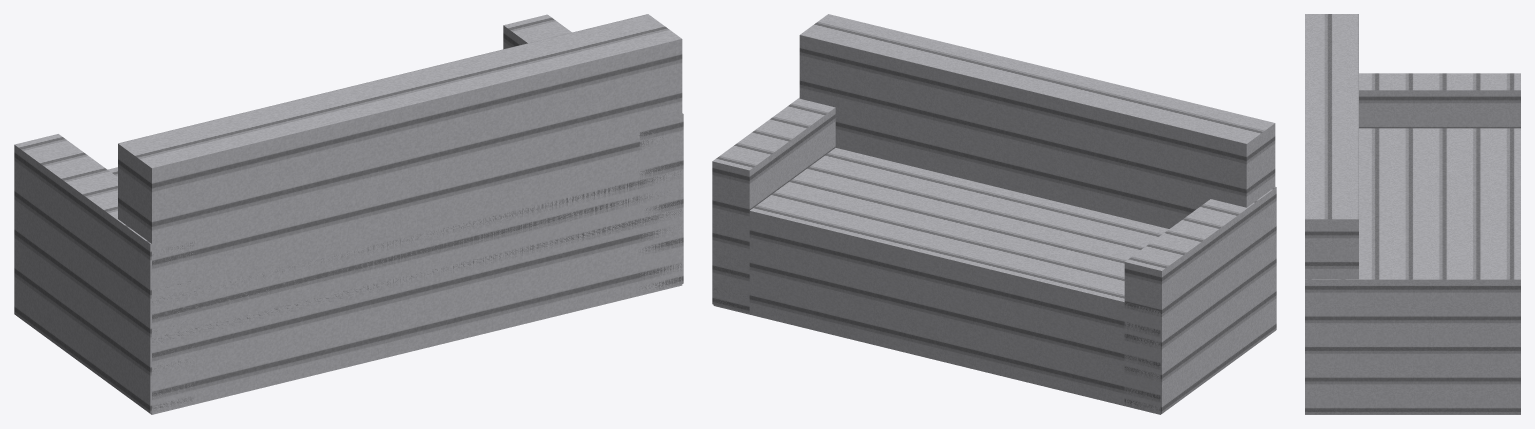
Rendered from sofa.glb.
3 views of the same model, side by side, from view 1: azimuth 30°, elevation 25°; view 2: azimuth 150°, elevation 25°; view 3: azimuth 270°, elevation 25° (orthographic). The views are drawn at different scales.
Parts seen in each view (by area): view 1: sofa-col; view 2: sofa-col; view 3: sofa-col.
Part boxes in pixels (left/top/right/bottom): sofa-col: left=14, top=14, right=683, bottom=414; sofa-col: left=712, top=14, right=1276, bottom=414; sofa-col: left=1305, top=14, right=1520, bottom=414.
Size of the model in its own units: 1.81 by 0.8 by 0.8.
Materials: 1 (1 with a texture image).
